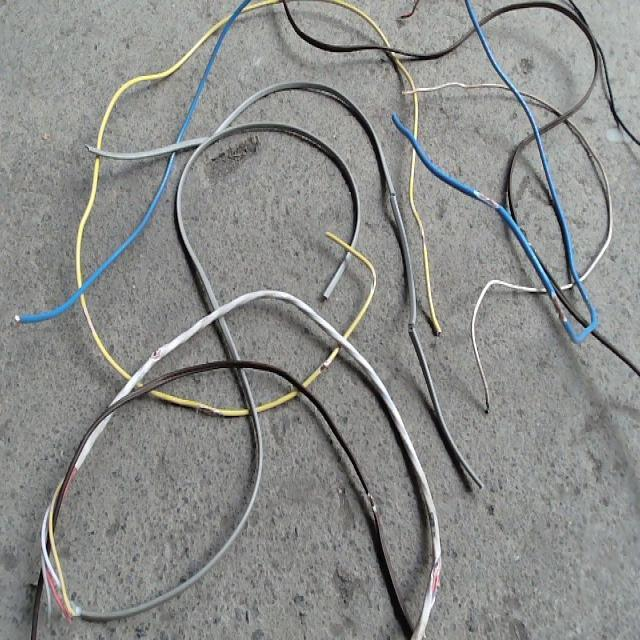-: (550, 289, 566, 323), (472, 188, 499, 208), (429, 556, 440, 604), (197, 404, 220, 416), (365, 489, 376, 512), (150, 346, 162, 358), (318, 359, 329, 372), (407, 320, 414, 332)
